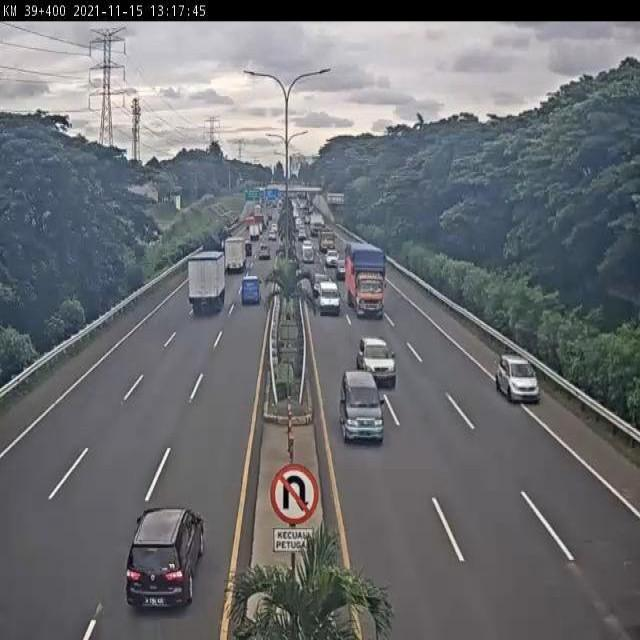bus-s-: (318, 284, 343, 316), (241, 274, 262, 302)
car: (124, 504, 205, 612), (338, 371, 390, 446), (495, 348, 540, 409), (357, 334, 397, 389), (310, 271, 332, 297)
truck-m-: (348, 239, 389, 317), (188, 250, 227, 314), (223, 238, 248, 274)
